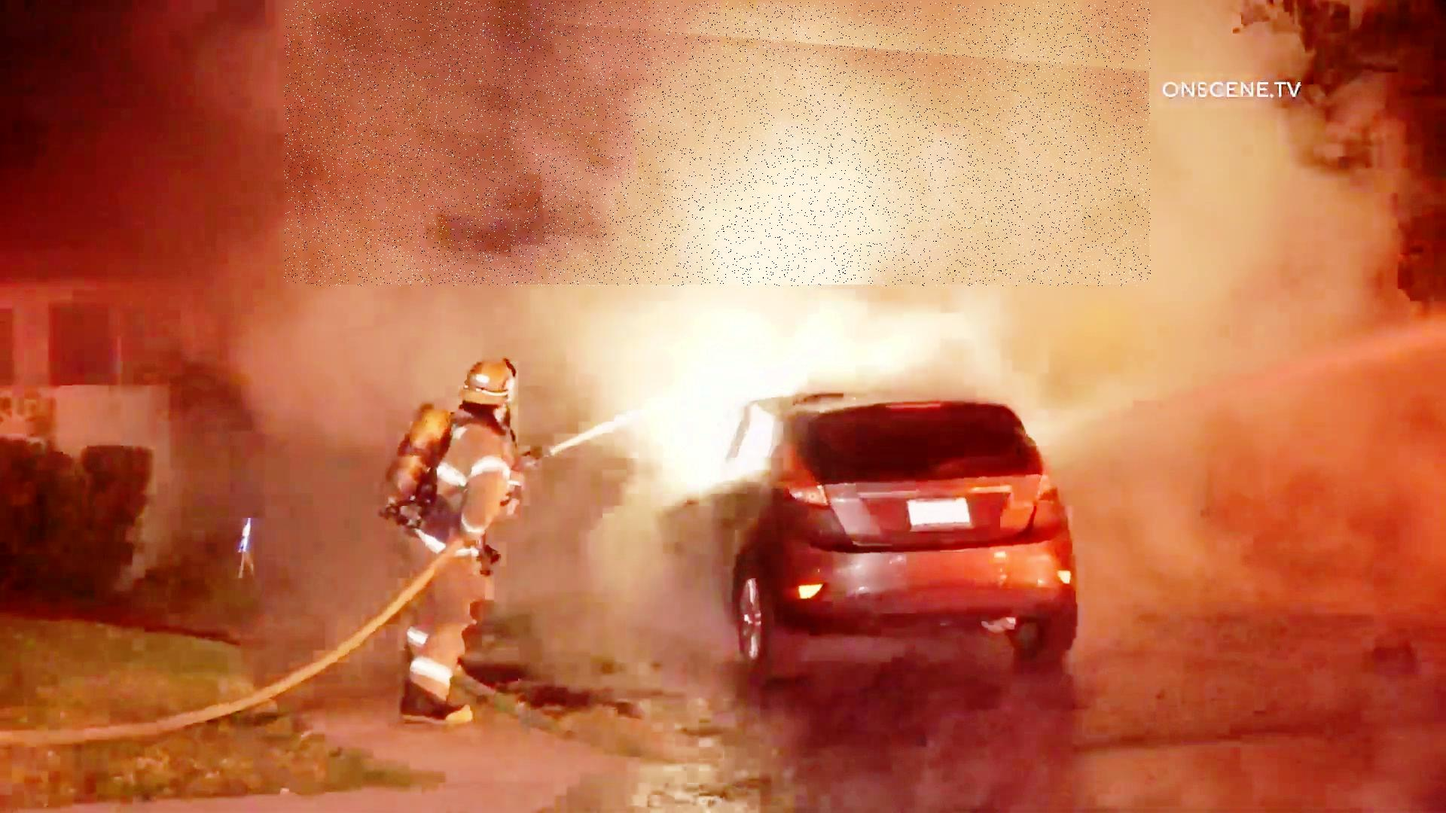smoke: (285, 2, 1151, 287)
